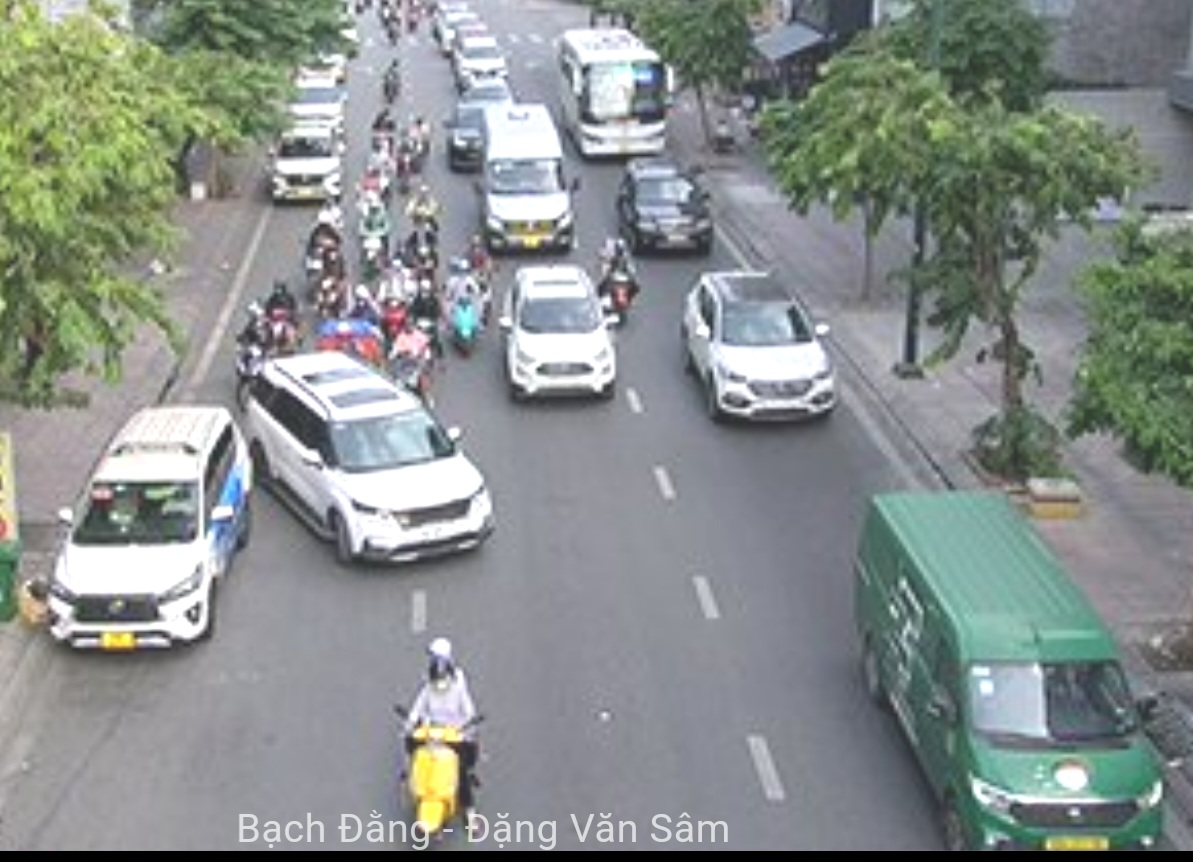car: (871, 491, 1167, 859), (252, 353, 489, 564), (57, 410, 248, 658), (682, 272, 839, 424), (496, 267, 618, 400), (478, 108, 576, 250), (617, 160, 711, 260), (271, 124, 347, 207), (288, 78, 348, 122), (455, 39, 512, 82)
